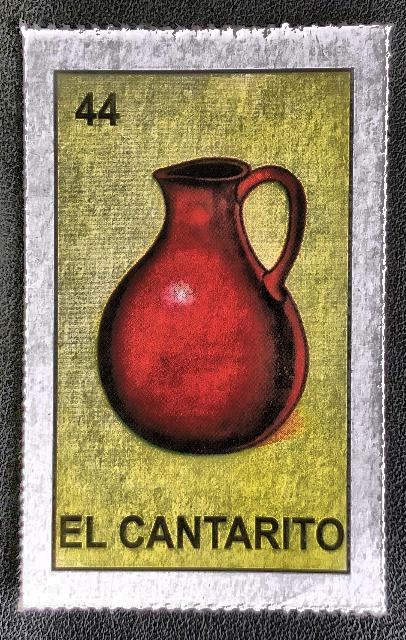El Cantarito: (35, 36, 375, 602)
